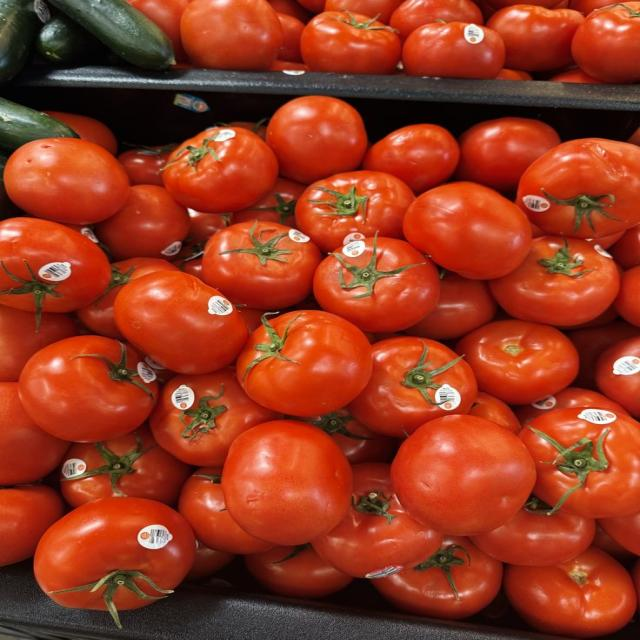tomato: (34, 498, 195, 626), (392, 415, 535, 535), (222, 421, 352, 545), (312, 463, 442, 578), (19, 335, 158, 442), (237, 310, 372, 416), (114, 271, 247, 374), (520, 408, 639, 518), (348, 336, 477, 437), (149, 368, 281, 466), (403, 182, 532, 279), (0, 218, 110, 331), (516, 138, 639, 238), (504, 547, 637, 638), (314, 237, 439, 332), (489, 236, 619, 326), (374, 535, 502, 620), (202, 220, 322, 310), (4, 138, 129, 223), (60, 427, 191, 507), (455, 320, 579, 404), (162, 126, 278, 212), (295, 170, 414, 252), (267, 96, 367, 183), (472, 497, 595, 566), (455, 117, 560, 196), (76, 258, 178, 339), (179, 468, 273, 553), (0, 382, 69, 486), (180, 0, 282, 70), (94, 185, 189, 260), (362, 124, 459, 195), (300, 10, 401, 75), (487, 4, 584, 71), (406, 271, 497, 340), (0, 303, 78, 381), (402, 22, 505, 78), (245, 545, 353, 598), (572, 2, 639, 83), (301, 410, 397, 465), (0, 485, 65, 566), (566, 320, 639, 389), (514, 387, 627, 427), (389, 0, 483, 41), (127, 0, 189, 61), (595, 334, 639, 418), (234, 178, 306, 226), (43, 111, 118, 155), (118, 144, 175, 185), (468, 392, 520, 433), (187, 209, 240, 248), (185, 541, 235, 581), (324, 0, 402, 24), (593, 521, 636, 564), (599, 512, 639, 555), (614, 266, 639, 326), (610, 225, 639, 270), (278, 13, 304, 62), (268, 0, 311, 23), (549, 69, 606, 84), (569, 0, 611, 16), (268, 60, 310, 72), (495, 68, 533, 80), (482, 0, 521, 11), (298, 0, 326, 13), (631, 560, 639, 599)
